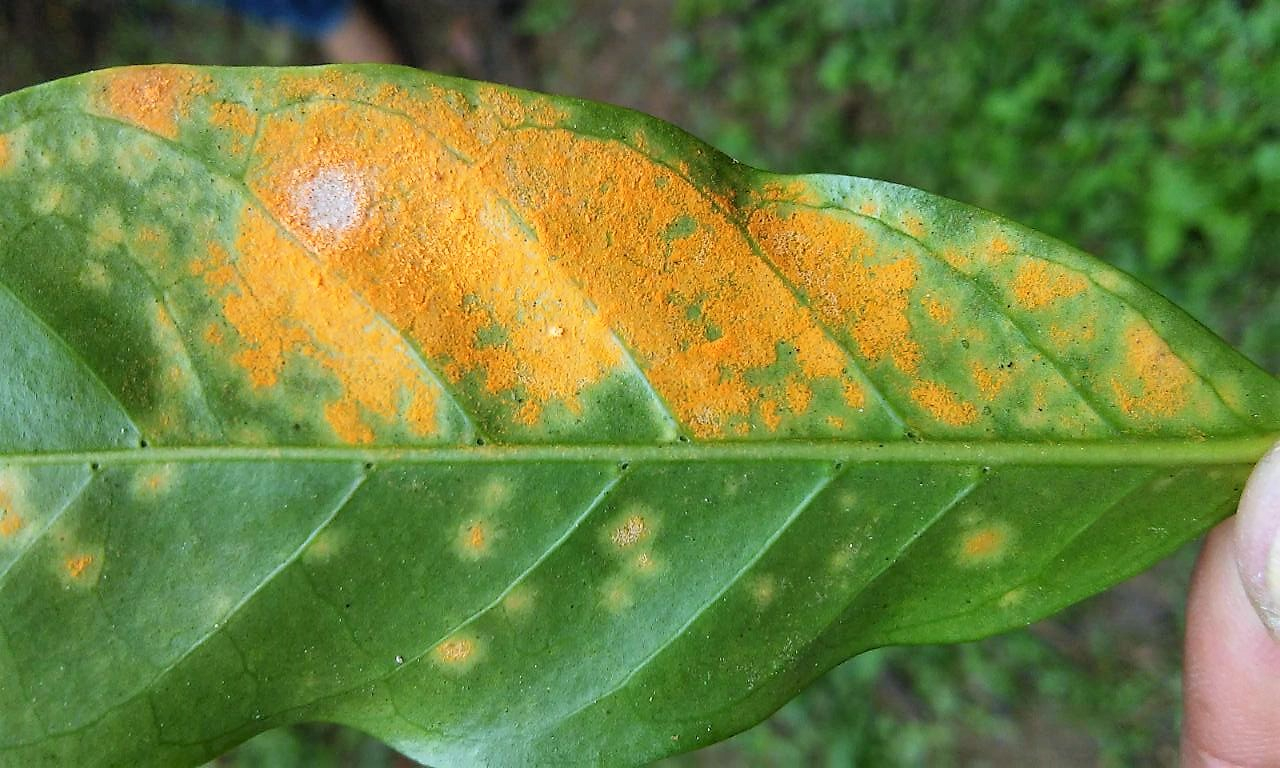roya: (93, 65, 1194, 431)
